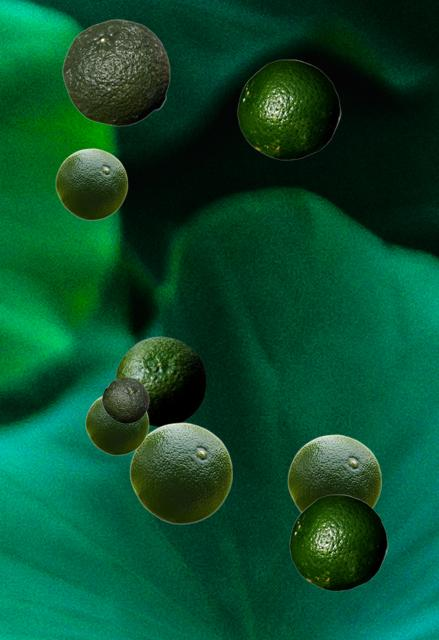calamansi: (62, 19, 169, 125), (129, 422, 232, 523), (237, 59, 340, 159), (289, 494, 387, 590), (115, 336, 205, 426), (287, 434, 381, 512), (55, 148, 127, 219), (85, 396, 148, 454), (102, 377, 148, 422)
